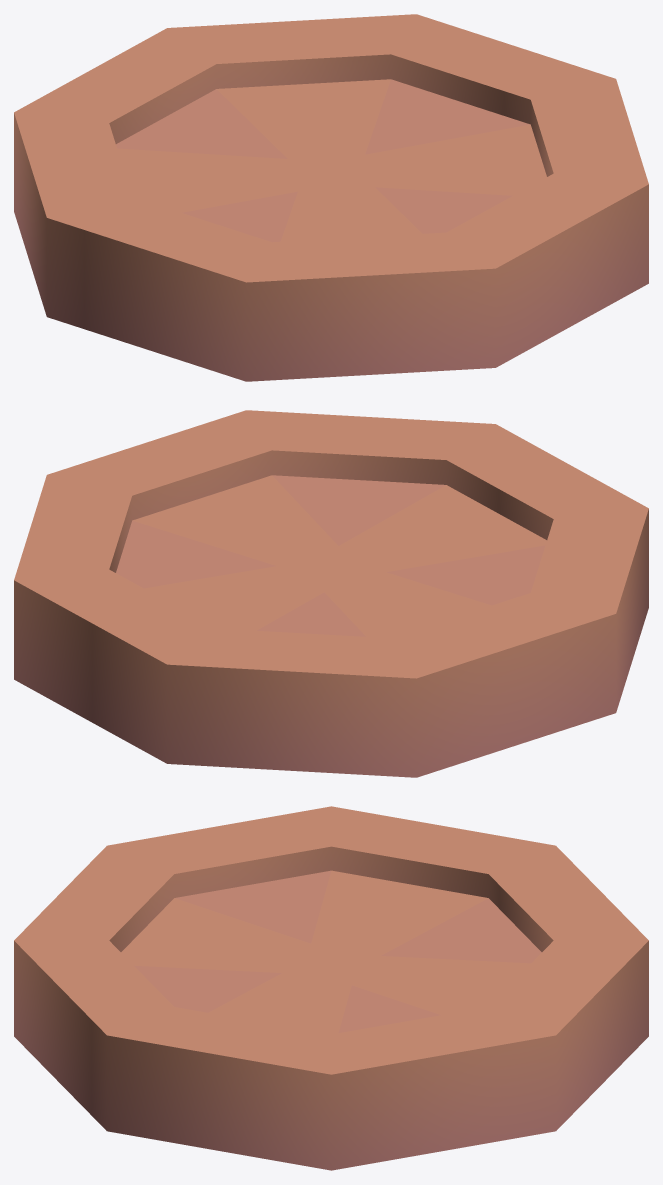
Rendered from tomato-slice.glb.
The picture shows the model from 3 angles, top to bottom: view 1: azimuth 30°, elevation 25°; view 2: azimuth 150°, elevation 25°; view 3: azimuth 270°, elevation 25°; orthographic projection. The views are drawn at different scales.
Parts seen in each view (by area): view 1: tomato-slice; view 2: tomato-slice; view 3: tomato-slice.
Part boxes in pixels (x1,y1,x2,y2): tomato-slice: (14, 14, 648, 381); tomato-slice: (14, 410, 648, 777); tomato-slice: (14, 806, 648, 1170).
Bounding box in the file's own units: 0.18 × 0.03 × 0.18.
